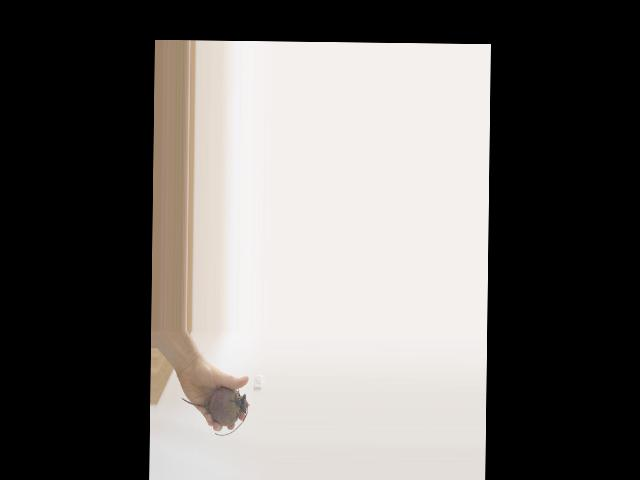beet: (180, 387, 249, 436)
